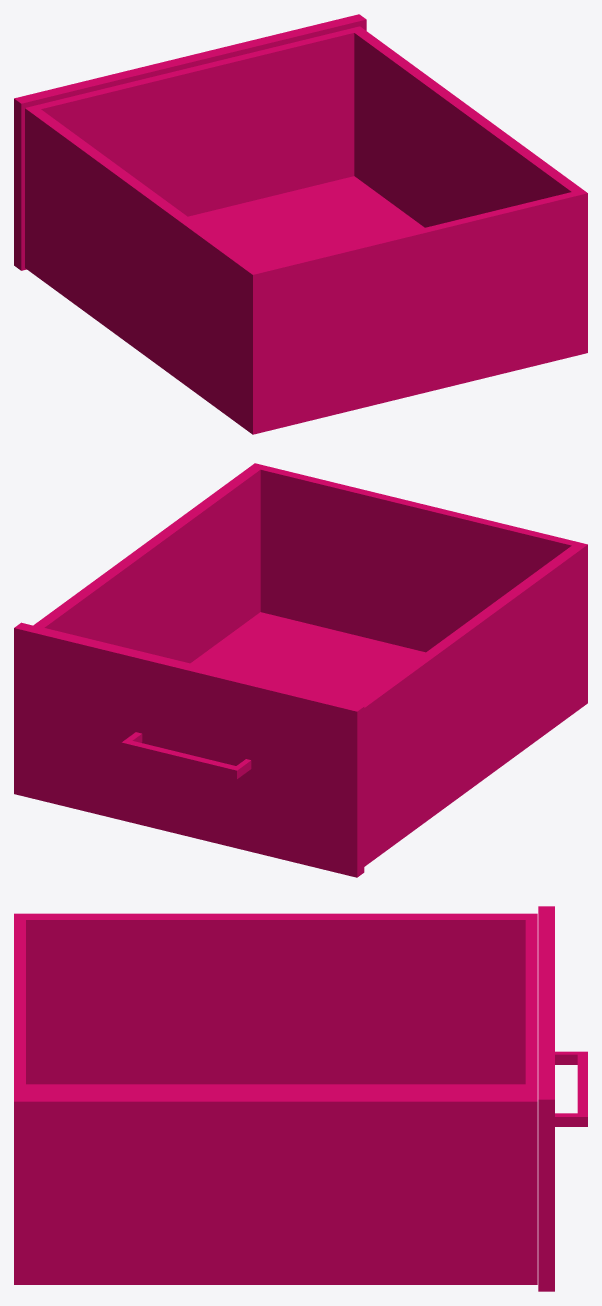
The model's file is Desk_02_Drawer.fbx.
3 renders of one model, top to bottom at view 1: azimuth 30°, elevation 25°; view 2: azimuth 150°, elevation 25°; view 3: azimuth 270°, elevation 25°, orthographic. The views are drawn at different scales.
Parts seen in each view (by area): view 1: Desk_02_Drawer; view 2: Desk_02_Drawer; view 3: Desk_02_Drawer.
Boxes of the visible parts, box(x1,y1,x2,y2) form: Desk_02_Drawer: box(14, 14, 587, 434); Desk_02_Drawer: box(14, 463, 587, 877); Desk_02_Drawer: box(14, 906, 587, 1291).
Bounding box in the file's own units: 36.21 × 16.75 × 45.4.
